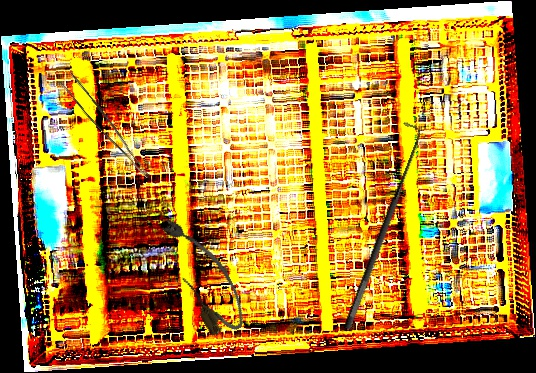Cannula: (153, 206, 253, 342)
Hook Surgical: (327, 121, 431, 331)
Tissue Forceps: (56, 71, 161, 179)
